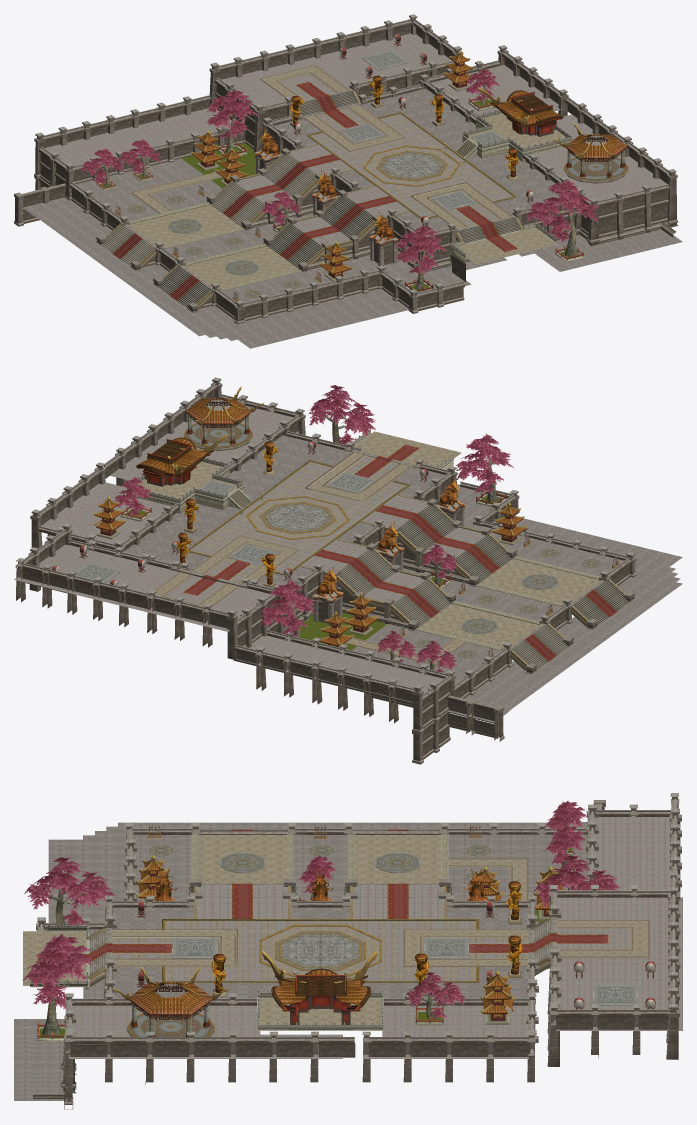
Rendered from GCZ.FBX.
3 views of the same model, one above another, from view 1: azimuth 30°, elevation 25°; view 2: azimuth 150°, elevation 25°; view 3: azimuth 270°, elevation 25° (orthographic). The views are drawn at different scales.
Parts seen in each view (by area): view 1: polySurface61, polySurface75, polySurface111, Object423632, Object423586, polySurface112, Object423602, Object423584, Object423530, Object423585, pCylinder19, pCylinder21 (+16 smaller); view 2: polySurface61, Object423632, polySurface75, polySurface111, Object423584, Object423530, Object423586, polySurface112, Object423585, pCylinder19, pCylinder21, Object423602 (+15 smaller); view 3: polySurface111, Object423586, polySurface75, polySurface61, polySurface112, Object423530, Object423585, Object423584, pCylinder19, pCylinder21, Object423535, Object423529 (+17 smaller).
Boxes of the visible parts, bbox=[...] form: polySurface61: bbox=[119, 169, 506, 348]; polySurface75: bbox=[23, 108, 351, 277]; polySurface111: bbox=[274, 88, 525, 194]; Object423632: bbox=[14, 95, 321, 270]; Object423586: bbox=[419, 45, 678, 246]; polySurface112: bbox=[391, 162, 682, 271]; Object423602: bbox=[153, 190, 464, 324]; Object423584: bbox=[209, 14, 463, 153]; Object423530: bbox=[431, 65, 667, 200]; Object423585: bbox=[221, 33, 451, 116]; pCylinder19: bbox=[96, 144, 353, 267]; pCylinder21: bbox=[162, 185, 431, 309]; polySurface61: bbox=[362, 456, 682, 646]; Object423632: bbox=[233, 543, 573, 764]; polySurface75: bbox=[236, 540, 596, 722]; polySurface111: bbox=[124, 477, 373, 587]; Object423584: bbox=[15, 523, 284, 659]; Object423530: bbox=[41, 398, 293, 543]; Object423586: bbox=[30, 377, 305, 551]; polySurface112: bbox=[229, 406, 444, 511]; Object423585: bbox=[14, 544, 270, 631]; pCylinder19: bbox=[299, 538, 564, 670]; pCylinder21: bbox=[360, 494, 625, 626]; Object423602: bbox=[384, 481, 636, 630]; polySurface111: bbox=[255, 901, 528, 998]; Object423586: bbox=[33, 993, 538, 1109]; polySurface75: bbox=[337, 816, 670, 918]; polySurface61: bbox=[43, 822, 337, 998]; polySurface112: bbox=[14, 901, 255, 1100]; Object423530: bbox=[69, 982, 528, 1058]; Object423585: bbox=[533, 897, 682, 1030]; Object423584: bbox=[547, 871, 680, 1066]; pCylinder19: bbox=[348, 833, 573, 918]; pCylinder21: bbox=[48, 833, 335, 930]; Object423535: bbox=[23, 919, 255, 1040]; Object423529: bbox=[112, 950, 515, 1036].
Bounding box in the file's own units: 58.7 × 14.15 × 53.48.
Materials: 5 (5 with a texture image).
